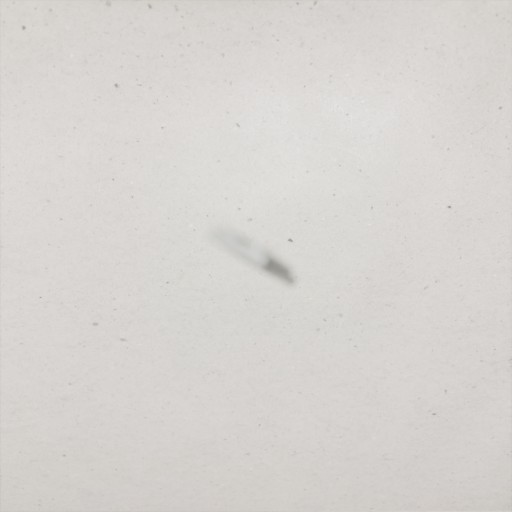lego: (206, 225, 299, 289)
